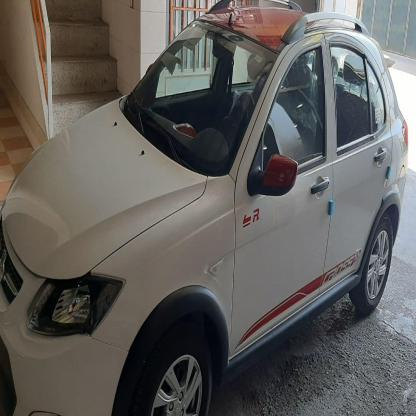Car: (0, 0, 406, 416)
